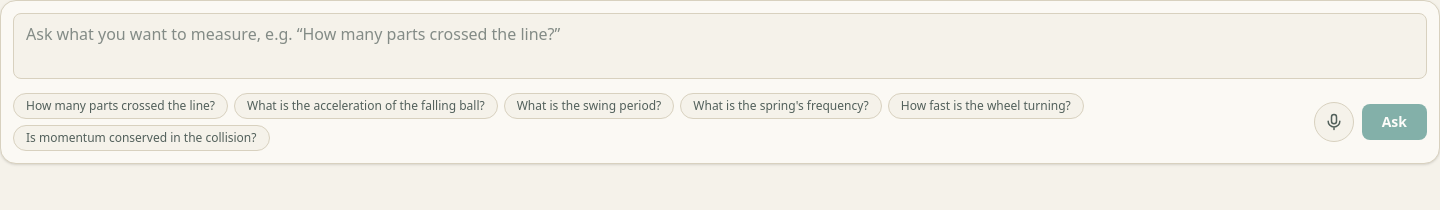
Test: voice input › does not send a recording that is too short
Click the button named "Speak your question": (1334, 122) [1314,102,1354,142]
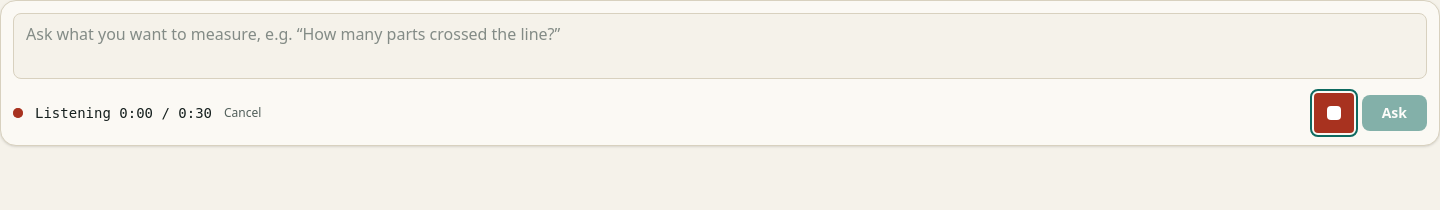
Click the button named "Stop recording": (1334, 113) [1314,93,1354,133]
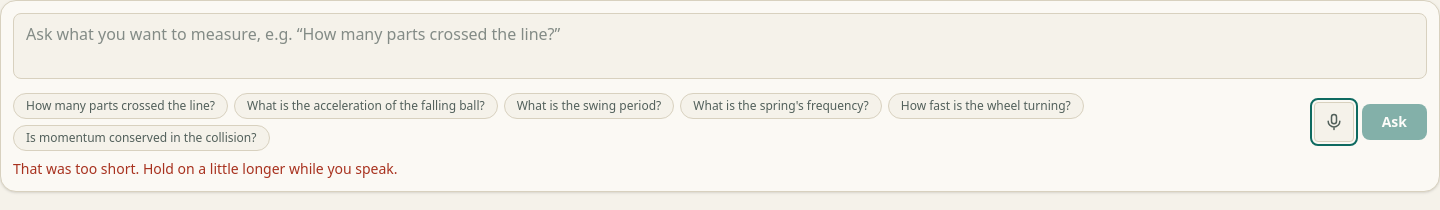
Now the message shows "too short", box [13,159,398,178]
